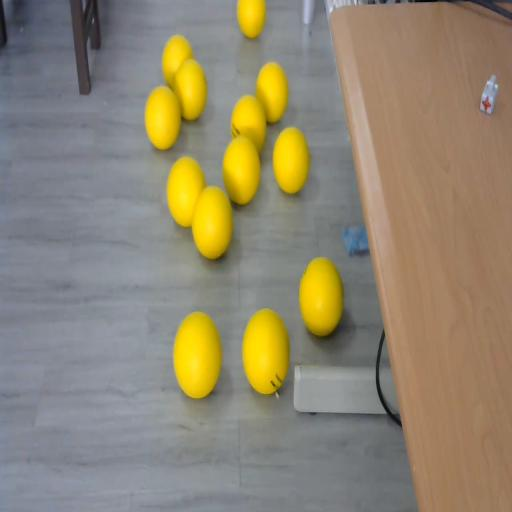FUEL: (172, 310, 222, 398), (241, 306, 291, 394), (298, 256, 344, 336), (190, 184, 234, 260), (222, 134, 262, 205), (272, 126, 310, 193), (144, 86, 182, 149), (256, 62, 288, 123), (162, 34, 193, 90), (236, 0, 265, 38)
